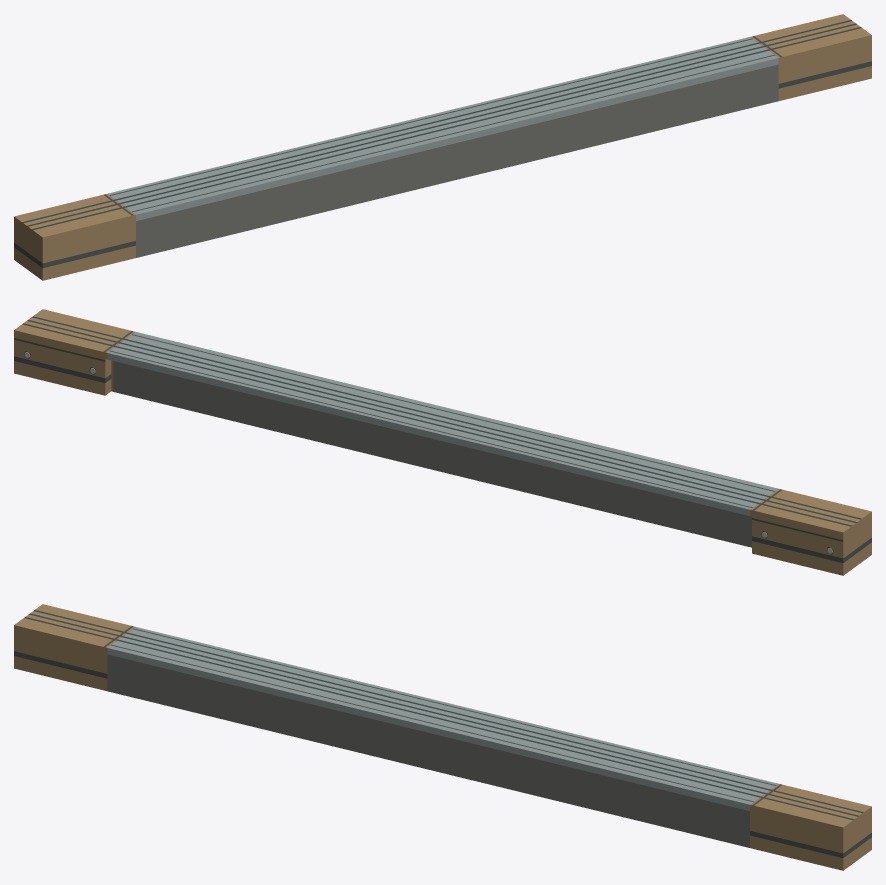
The model's file is mall-escalator-floor-transition-2m.glb.
3 views of the same model, one above another, from view 1: azimuth 30°, elevation 25°; view 2: azimuth 150°, elevation 25°; view 3: azimuth 330°, elevation 25° (orthographic).
Parts seen in each view (by area): view 1: PROFILE_TerminalReturn_LOD0; view 2: PROFILE_TerminalReturn_LOD0; view 3: PROFILE_TerminalReturn_LOD0.
Boxes of the visible parts, <box> form: PROFILE_TerminalReturn_LOD0: <box>14,14,871,280</box>; PROFILE_TerminalReturn_LOD0: <box>14,309,871,575</box>; PROFILE_TerminalReturn_LOD0: <box>14,604,871,870</box>.
Size of the model in its own units: 2 by 0.1 by 0.12.
